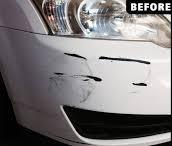dent: (42, 47, 157, 110)
